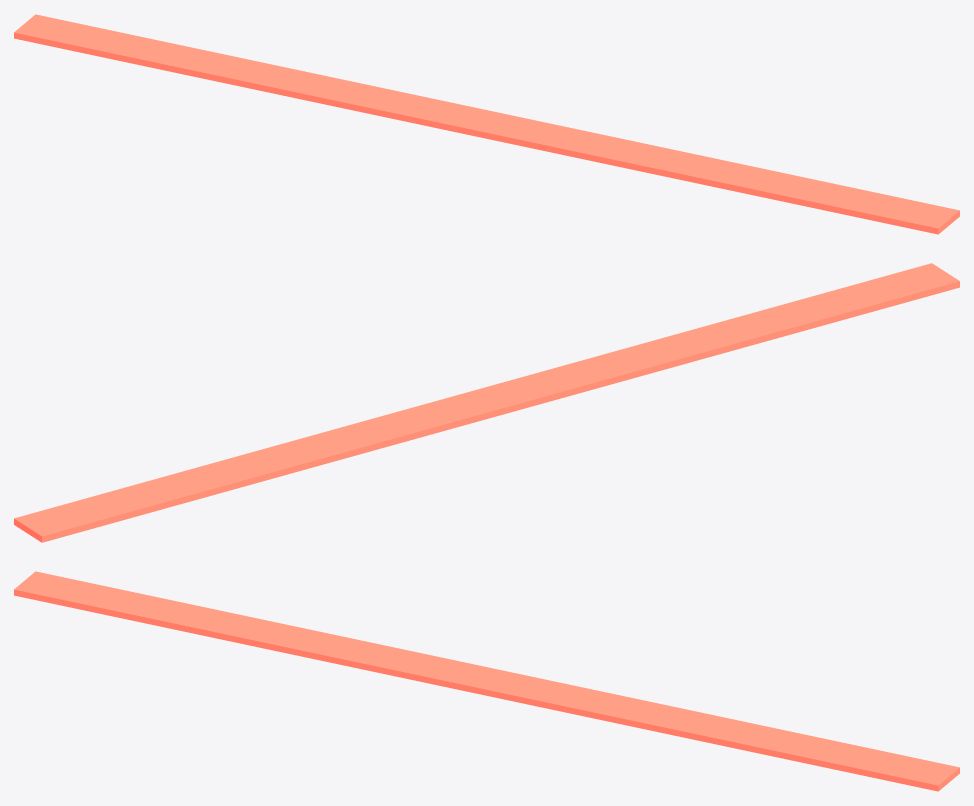
The model's file is la-port-zone-c5-crane-geofence-v1.glb.
3 renders of one model, top to bottom at view 1: azimuth 90°, elevation 25°; view 2: azimuth 150°, elevation 25°; view 3: azimuth 270°, elevation 25°, orthographic. The views are drawn at different scales.
Parts seen in each view (by area): view 1: Virtual Geofence; view 2: Virtual Geofence; view 3: Virtual Geofence.
Boxes of the visible parts, left/top/right/bottom form: Virtual Geofence: left=14, top=14, right=959, bottom=234; Virtual Geofence: left=14, top=263, right=959, bottom=542; Virtual Geofence: left=14, top=571, right=959, bottom=791.
Size of the model in its own units: 465 by 6.1 by 868.
